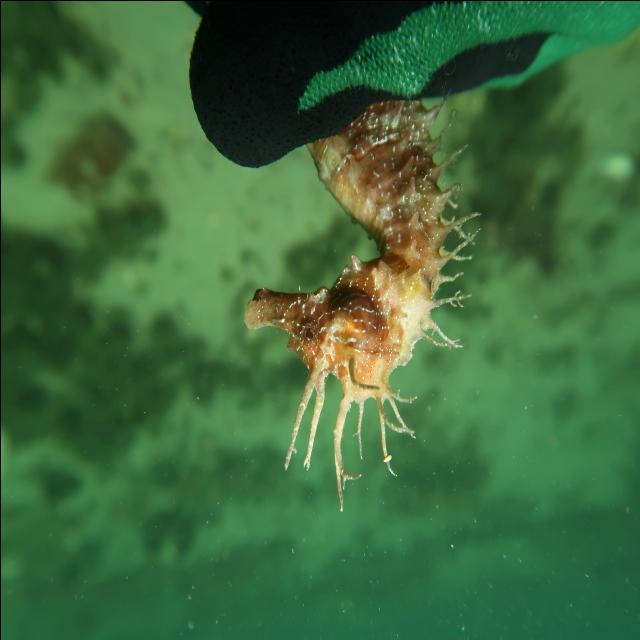Guttu: (238, 248, 402, 416)
